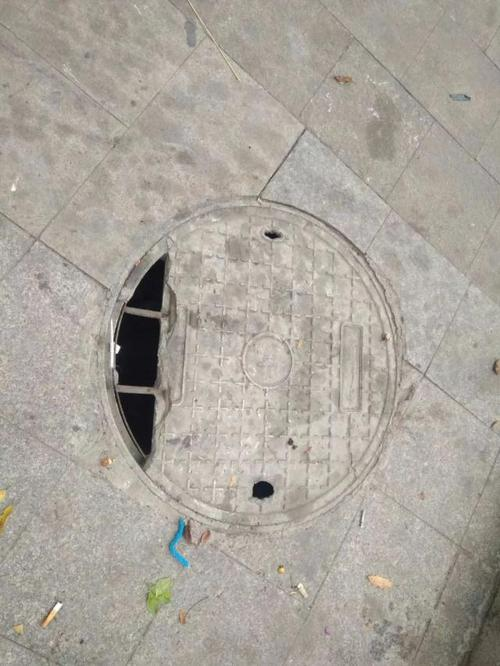broke: (83, 179, 415, 547)
